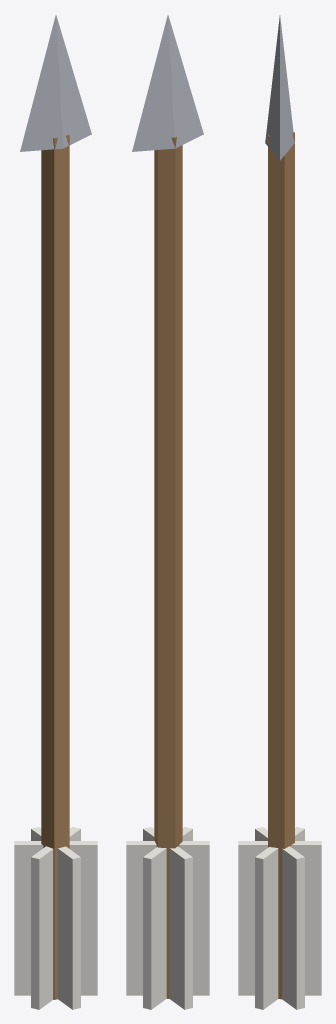
File: Arrow.fbx
The picture shows the model from 3 angles, left to right: view 1: azimuth 30°, elevation 25°; view 2: azimuth 210°, elevation 25°; view 3: azimuth 270°, elevation 25°; orthographic projection.
Parts seen in each view (by area): view 1: W_Arrow; view 2: W_Arrow; view 3: W_Arrow.
Part boxes in pixels (x1,y1,x2,y2): W_Arrow: (14, 15, 97, 1009); W_Arrow: (126, 15, 209, 1009); W_Arrow: (238, 15, 321, 1009).
Bounding box in the file's own units: 0.07 × 0.91 × 0.07.
